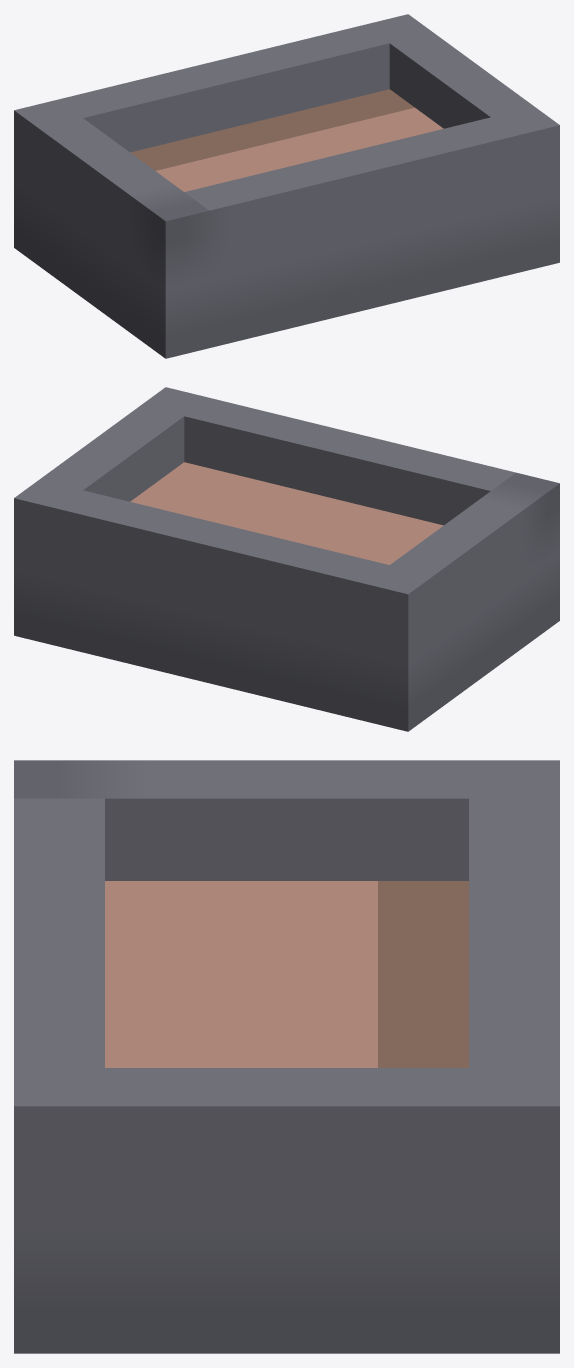
Rendered from Market_Items-2.fbx.
3 views of the same model, one above another, from view 1: azimuth 30°, elevation 25°; view 2: azimuth 150°, elevation 25°; view 3: azimuth 270°, elevation 25° (orthographic). The views are drawn at different scales.
Parts seen in each view (by area): view 1: Market_Items_2; view 2: Market_Items_2; view 3: Market_Items_2.
Part boxes in pixels (box(x1,y1,x2,y2)): Market_Items_2: box(14, 14, 559, 358); Market_Items_2: box(14, 387, 559, 731); Market_Items_2: box(14, 760, 559, 1353).
Bounding box in the file's own units: 90 × 30 × 60.
1 material, 1 textured.
